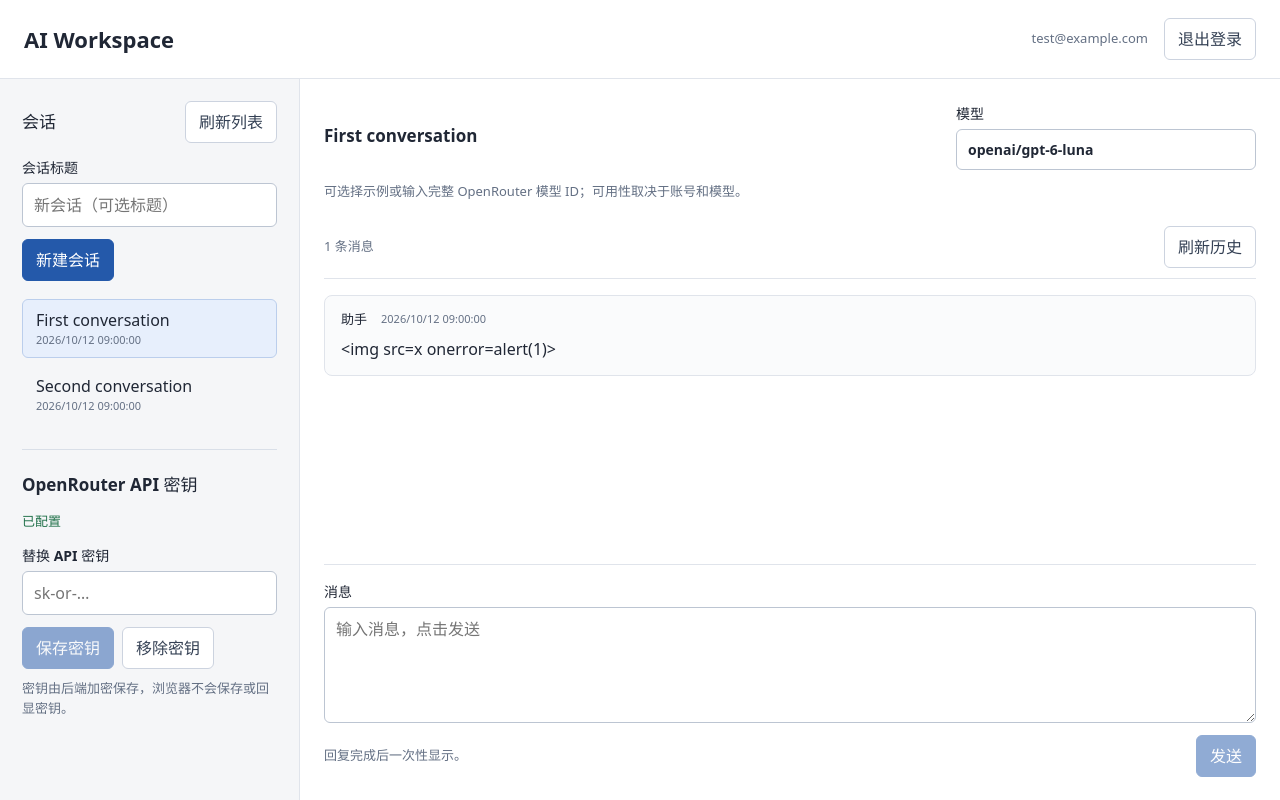
Test: 防止重复发送，失败时保留草稿，并将模型 HTML 作为纯文本展示
The image size is (1280, 800).
Expected: the text "<img src=x onerror=alert(1)>" is shown, [341,338,556,360]
Type "Keep this draft" into the text box labelled "消息" at {"x": 790, "y": 665}, box [324,607,1256,723]
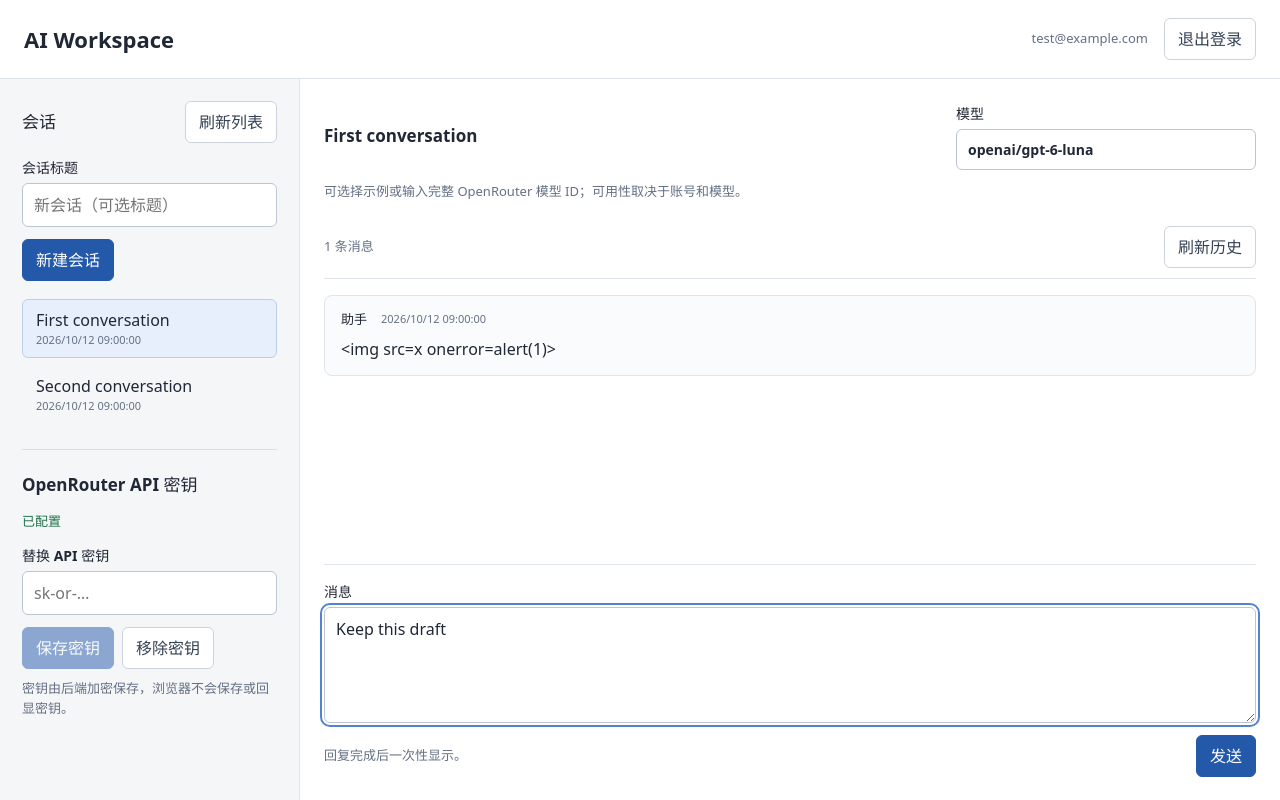
Submit the form labelled "消息", box [324,564,1256,777]
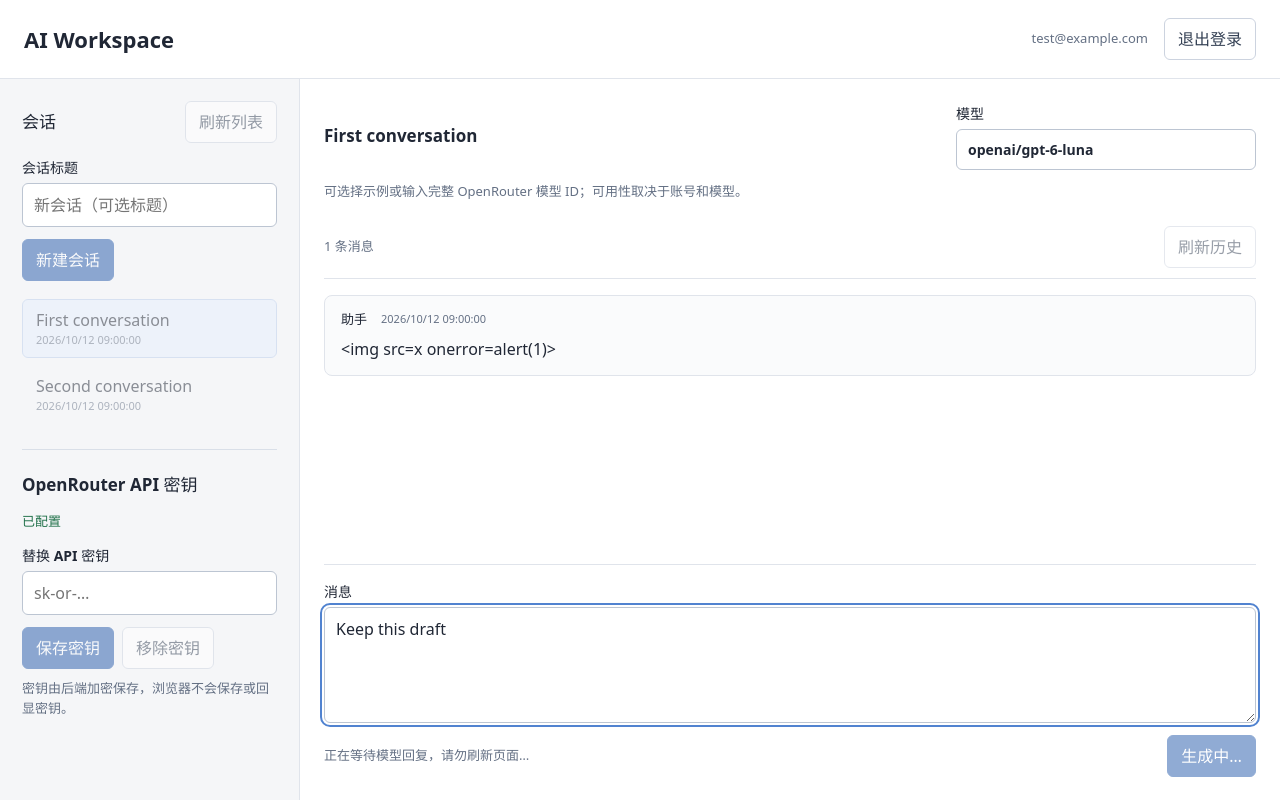
Submit the form labelled "消息", box [324,564,1256,777]
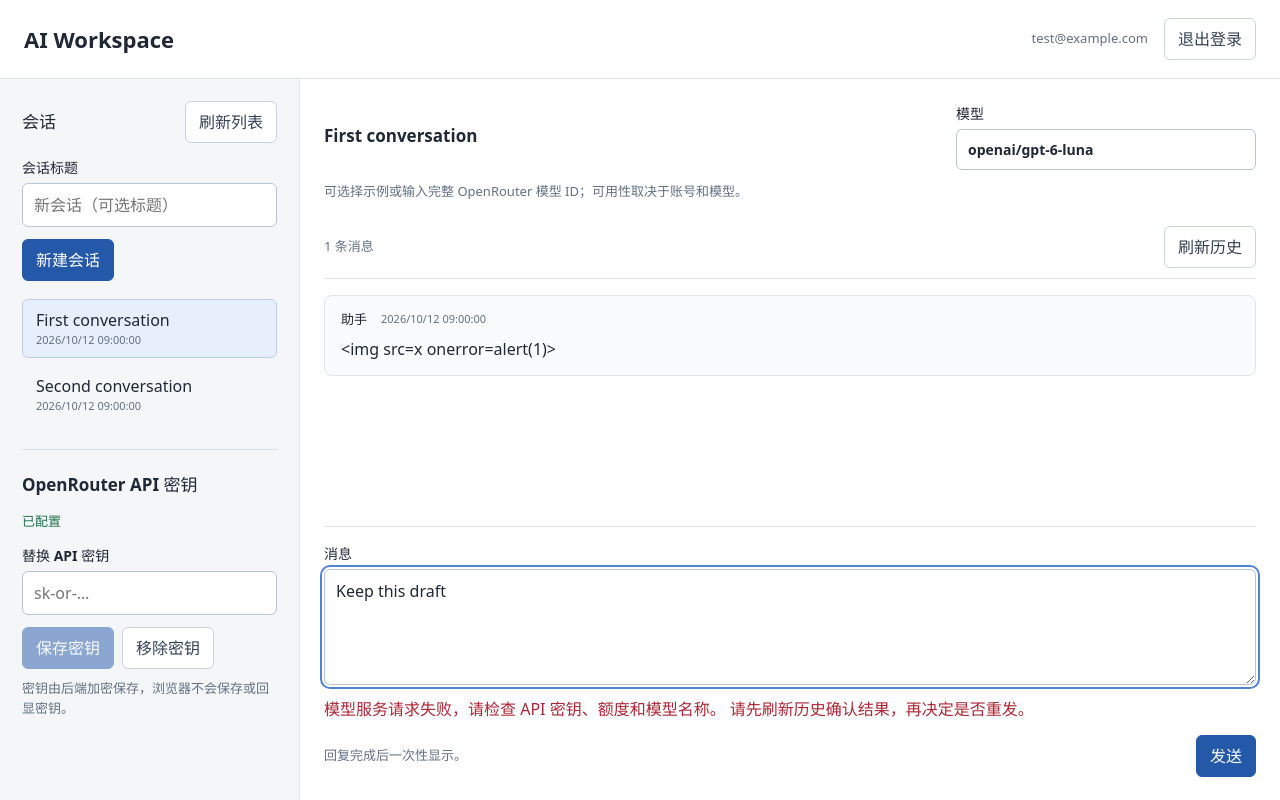
Now the text "模型服务请求失败，请检查 API 密钥、额度和模型名称。 请先刷新历史确认结果，再决定是否重发。" is shown, box [324,698,1034,720]
